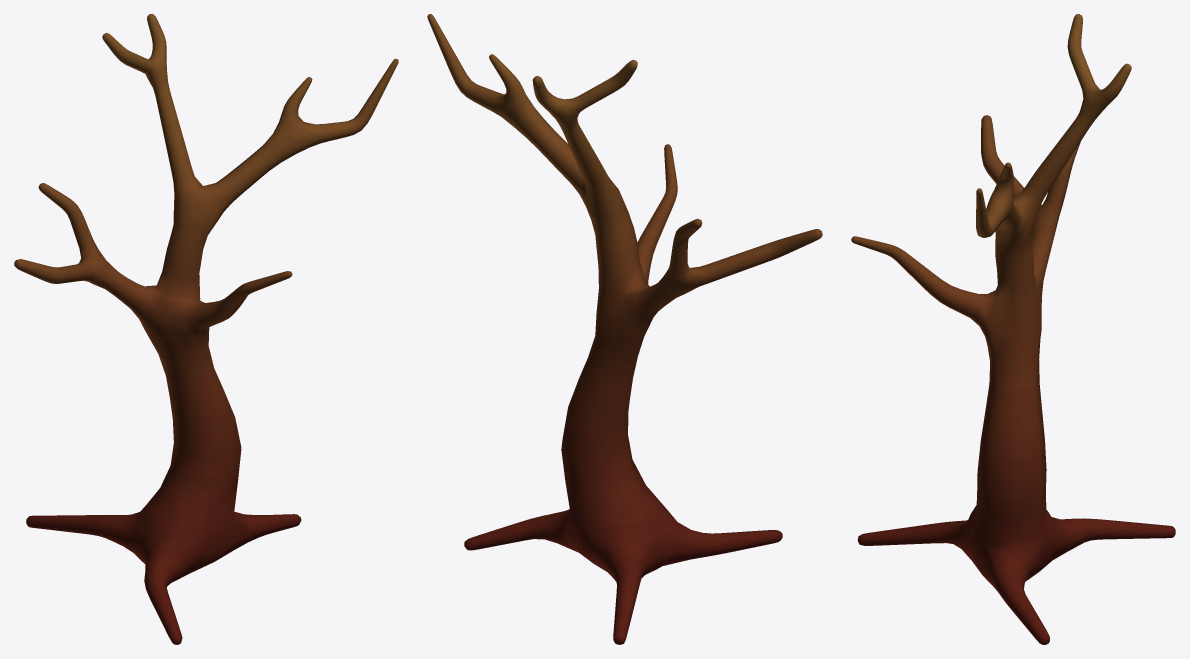
The model's file is sm_forest_leaflesstree.fbx.
3 renders of one model, left to right at view 1: azimuth 30°, elevation 25°; view 2: azimuth 150°, elevation 25°; view 3: azimuth 270°, elevation 25°, orthographic. The views are drawn at different scales.
Parts seen in each view (by area): view 1: sm_forest_leaflesstree; view 2: sm_forest_leaflesstree; view 3: sm_forest_leaflesstree.
Part boxes in pixels (x1,y1,x2,y2): sm_forest_leaflesstree: (14, 14, 398, 644); sm_forest_leaflesstree: (427, 14, 822, 644); sm_forest_leaflesstree: (851, 14, 1175, 644).
Bounding box in the file's own units: 905 × 644 × 1200.
